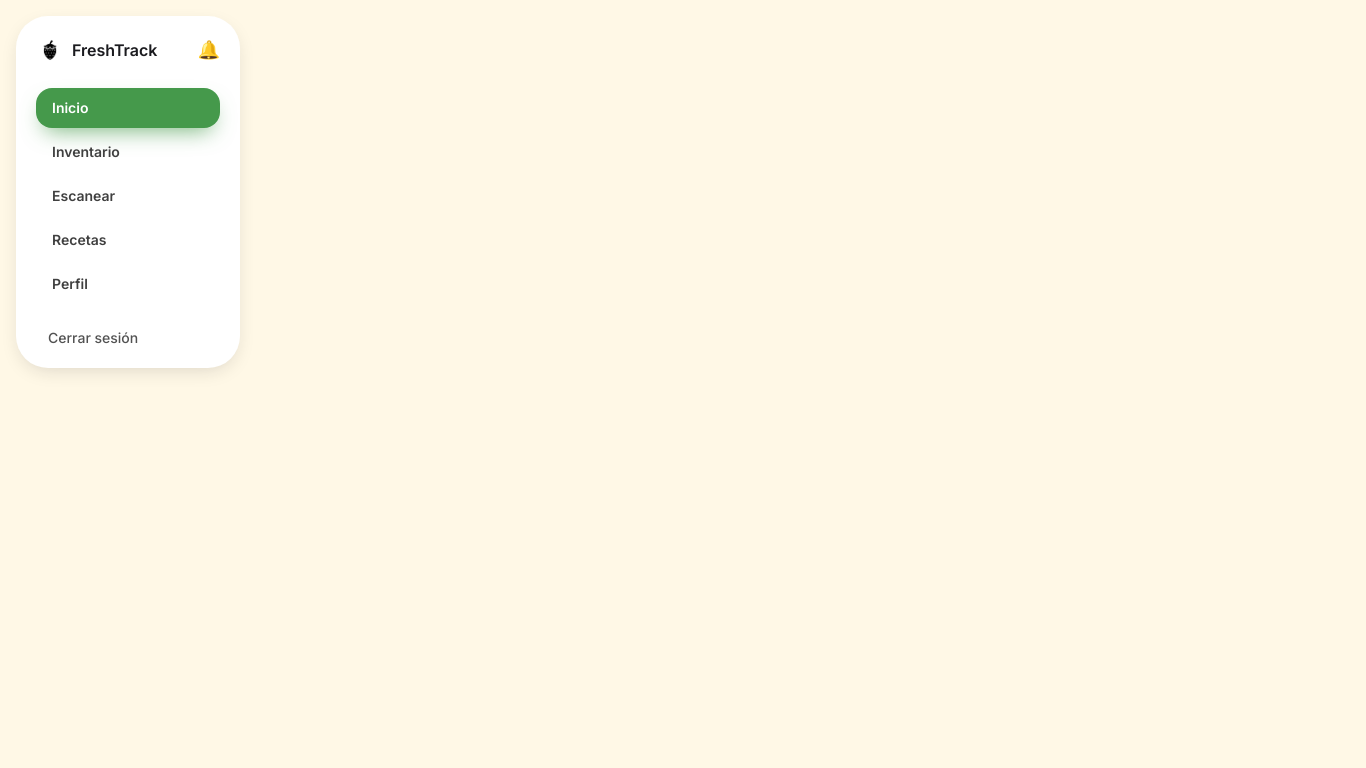
shows the signed-out toast
Click the button "Cerrar sesión".
click(128, 338)  # box [36,328,220,348]
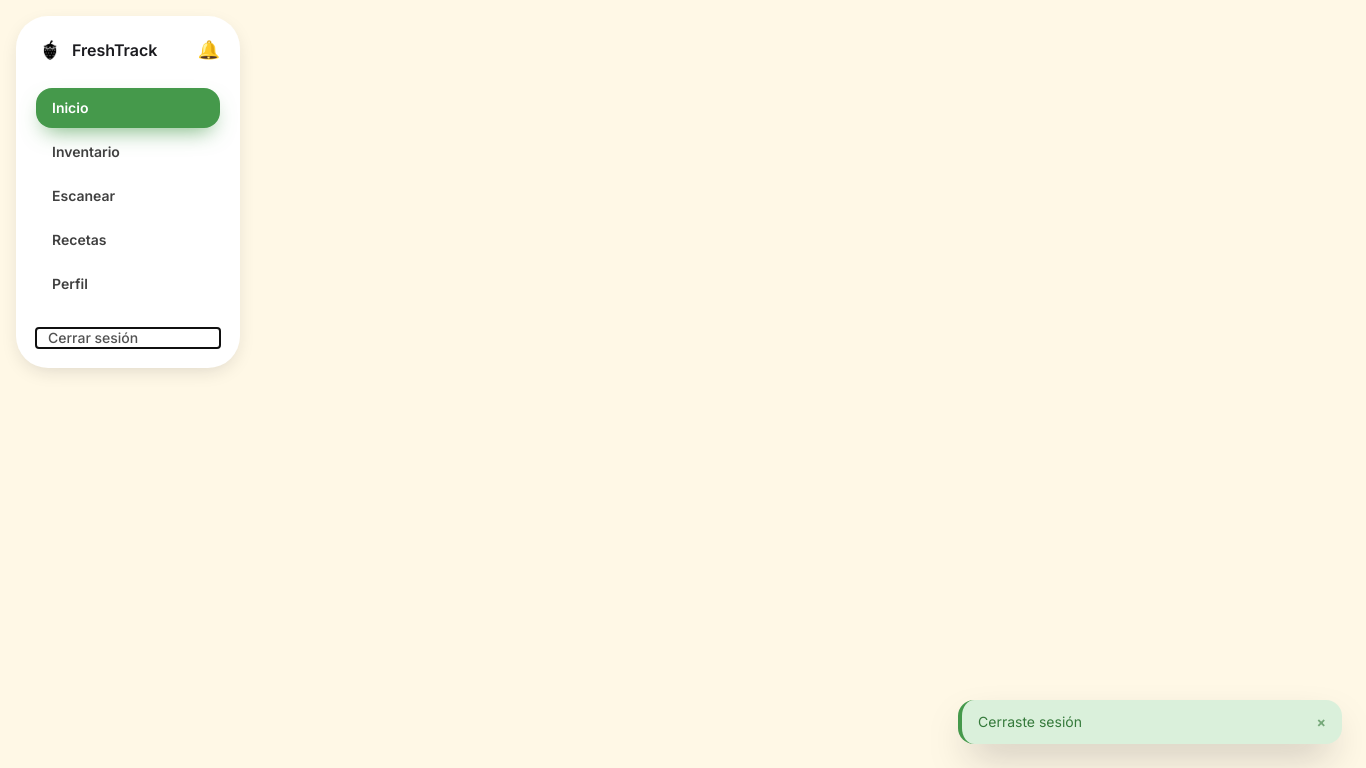
Check: the message shows "Cerraste sesión", box [978,713,1082,730]
